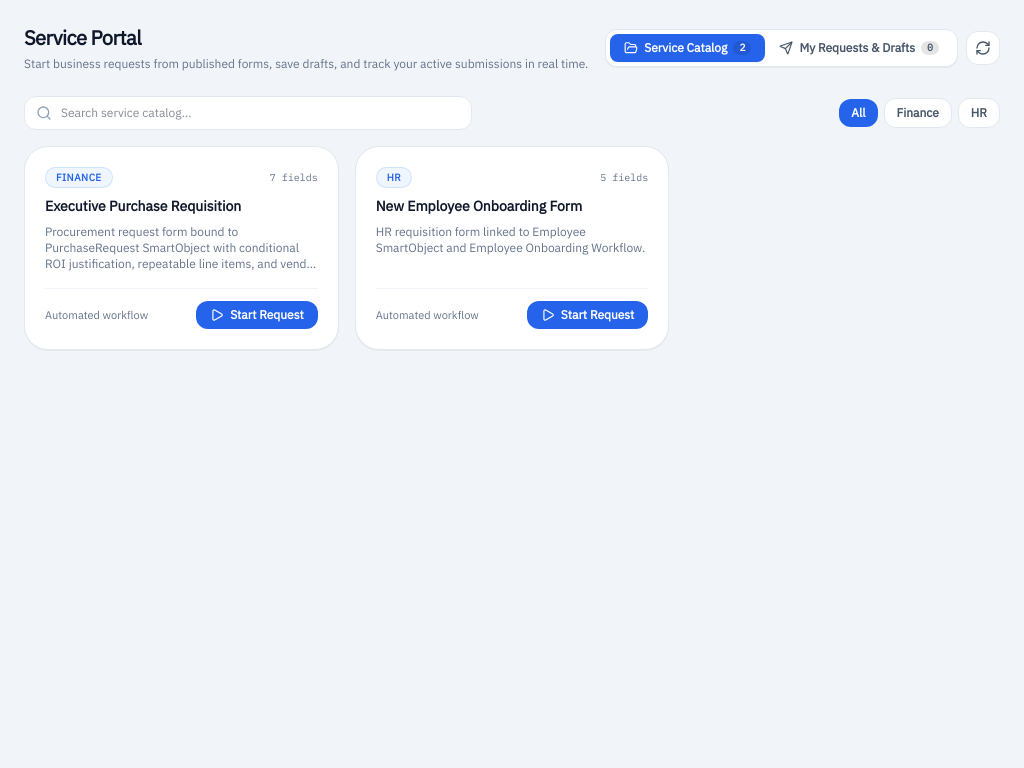
it: FormControlRegistry & Advanced Controls (Step C.3) › allows end-user to browse Service Catalog, save a draft, and resume it in ServicePortalView
The width and height of the screenshot is (1024, 768).
Expected: the heading "Executive Purchase Requisition" is shown, x1=45 y1=197 x2=241 y2=215
// Start Request opens the form modal
Click the button "Start Request" below "Executive Purchase Requisition": (257, 315) x1=196 y1=301 x2=318 y2=329
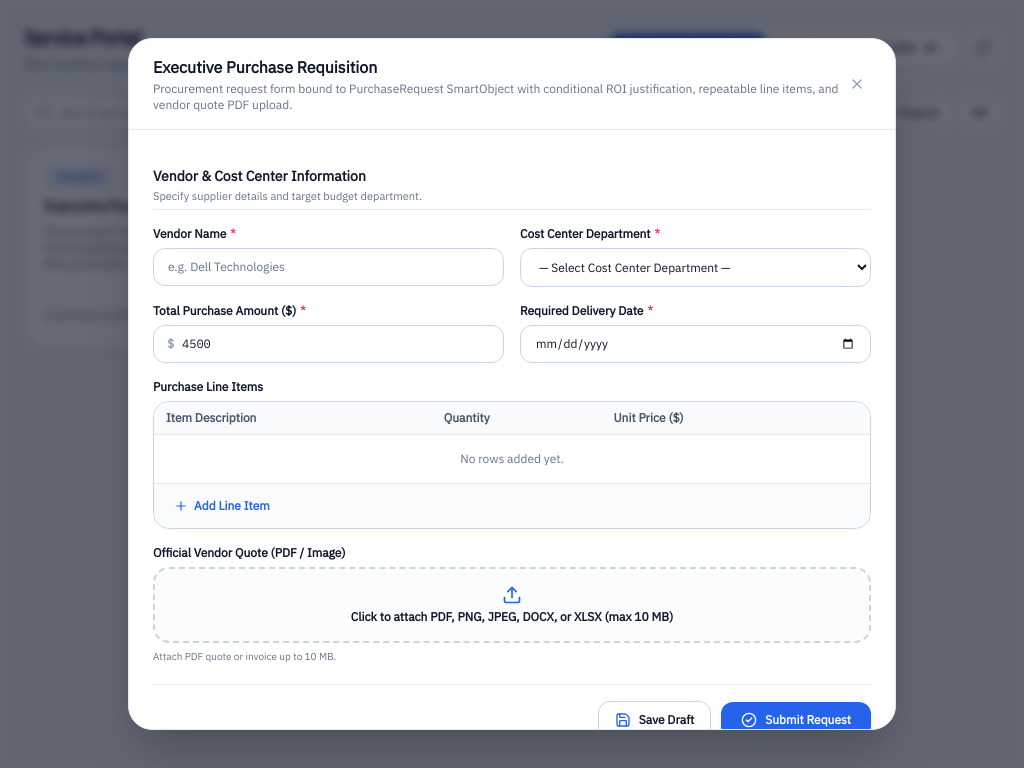
// Fill partial data and save draft
In the field labelled "Vendor Name*": (328, 267) x1=153 y1=248 x2=504 y2=286, type "Draft Vendor Corp"
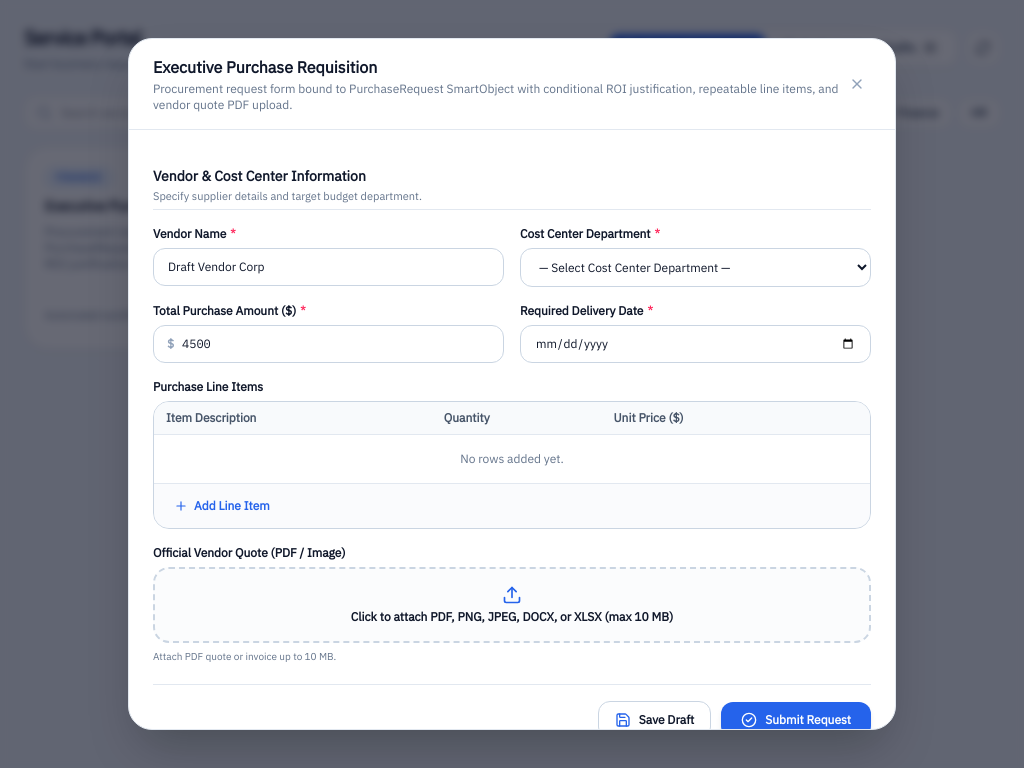
Click the button "Save Draft": (655, 720) x1=598 y1=701 x2=711 y2=739
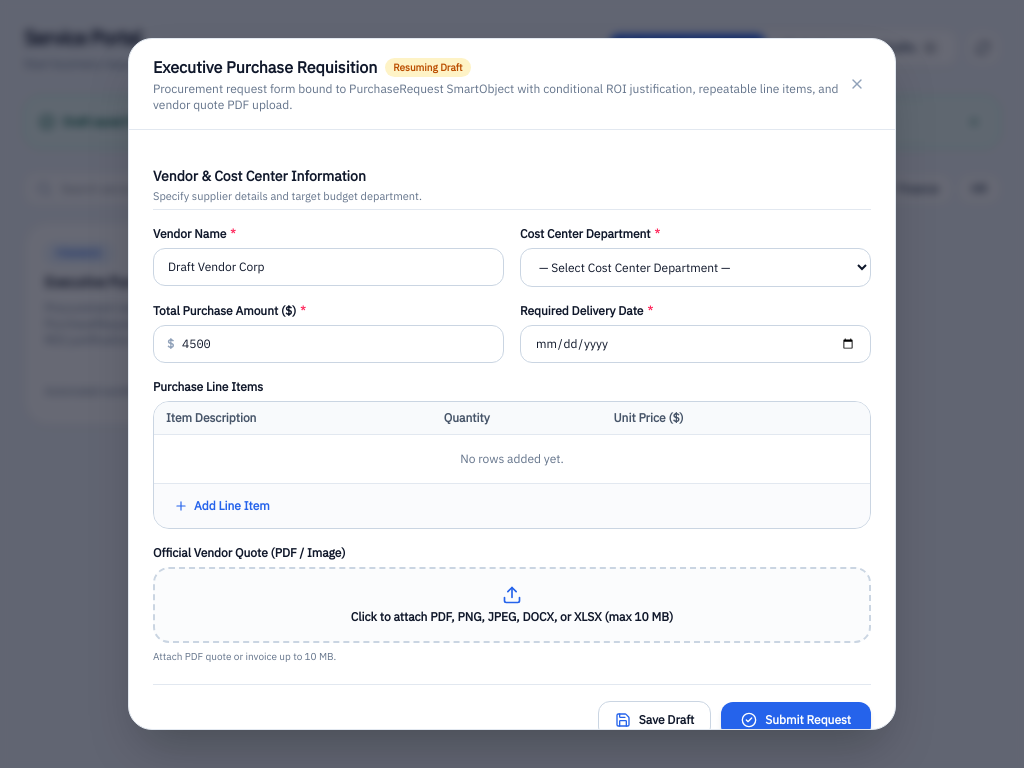
Result: the text "Draft saved for" is shown at x1=63 y1=114 x2=620 y2=129
// Close modal and switch to My Requests & Drafts tab
Click the button named "Close request form": (857, 84) x1=843 y1=70 x2=871 y2=98
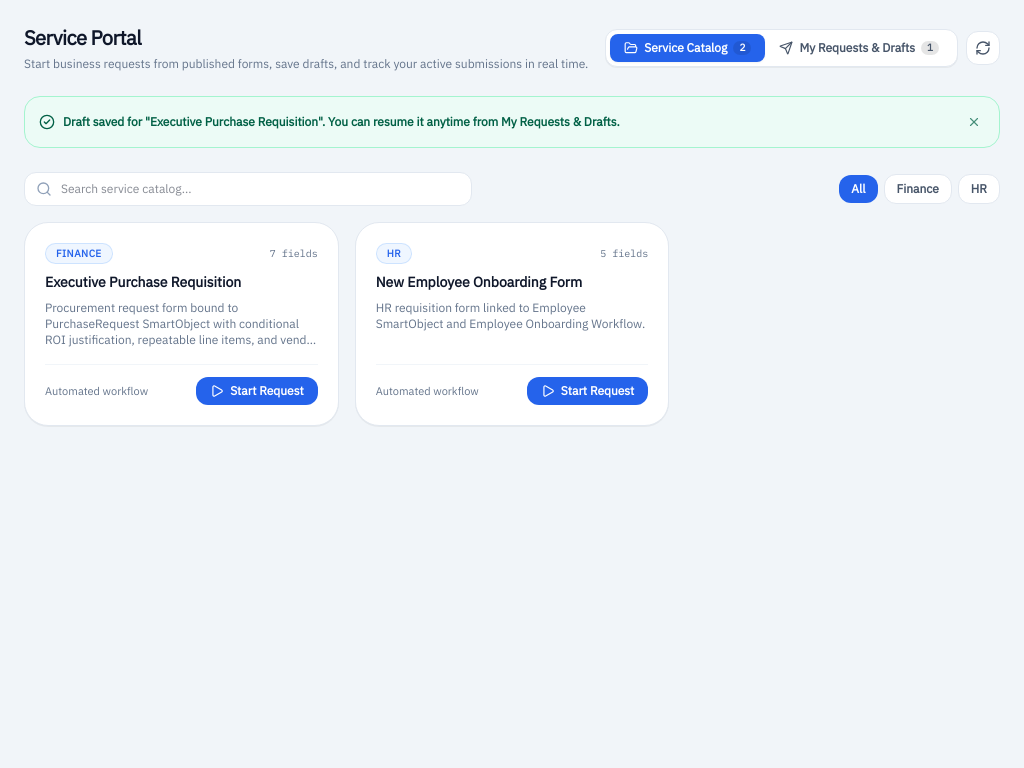
Click the button "My Requests & Drafts 1": (859, 48) x1=765 y1=34 x2=953 y2=62
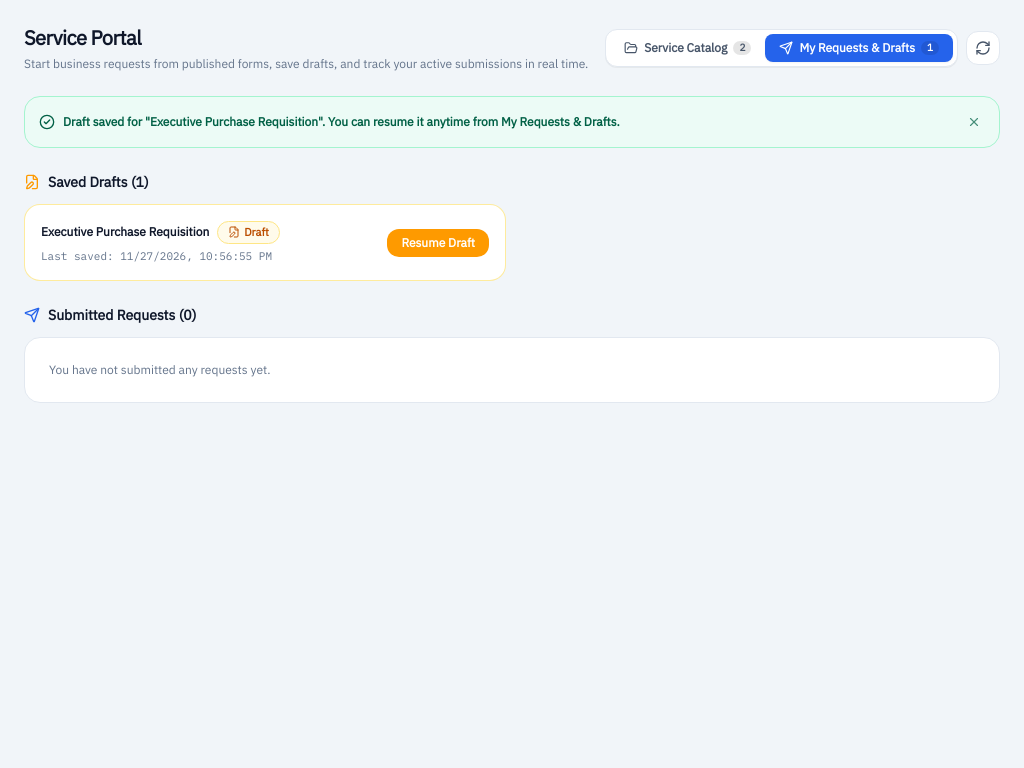
Result: the button "Resume Draft" is shown
Click the button "Resume Draft": (438, 242) x1=387 y1=228 x2=489 y2=256
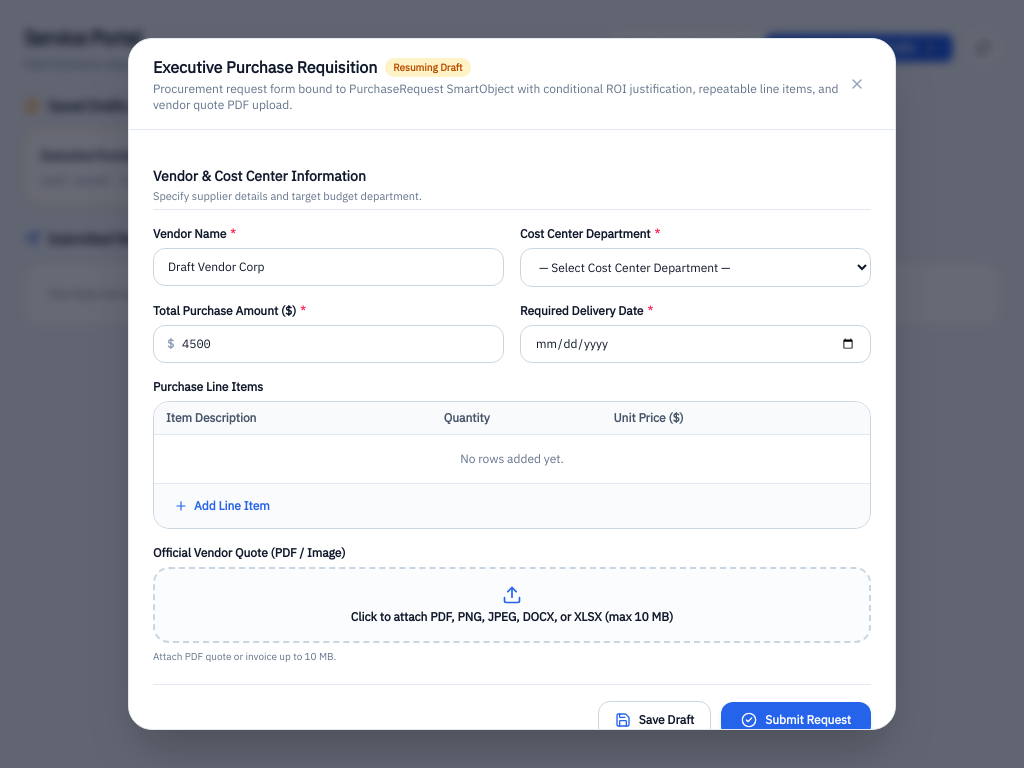
Result: the field labelled "Vendor Name*" holds "Draft Vendor Corp" at x1=153 y1=248 x2=504 y2=286
